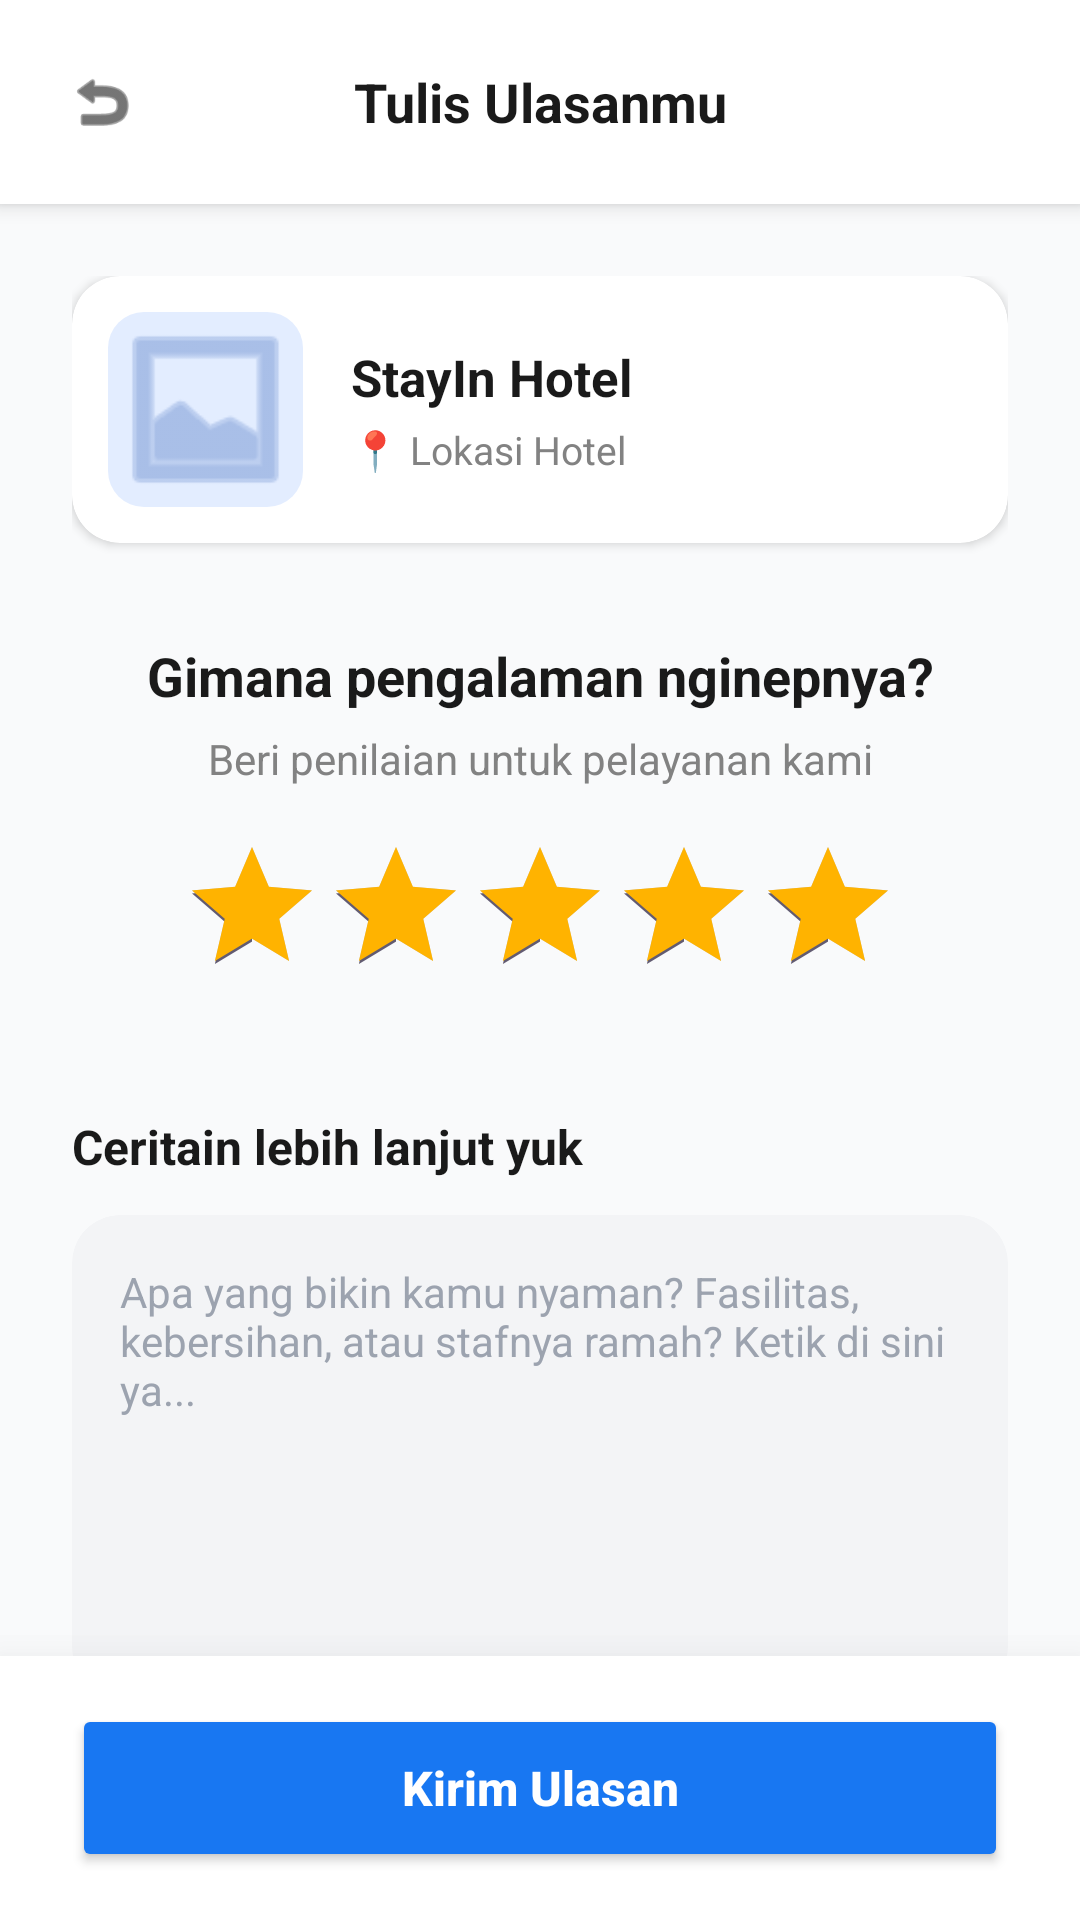

Icon click points for this 1080px x 1920px phone screenshot, format (x,y):
gallery: (205,409)
revert: (103,102)
